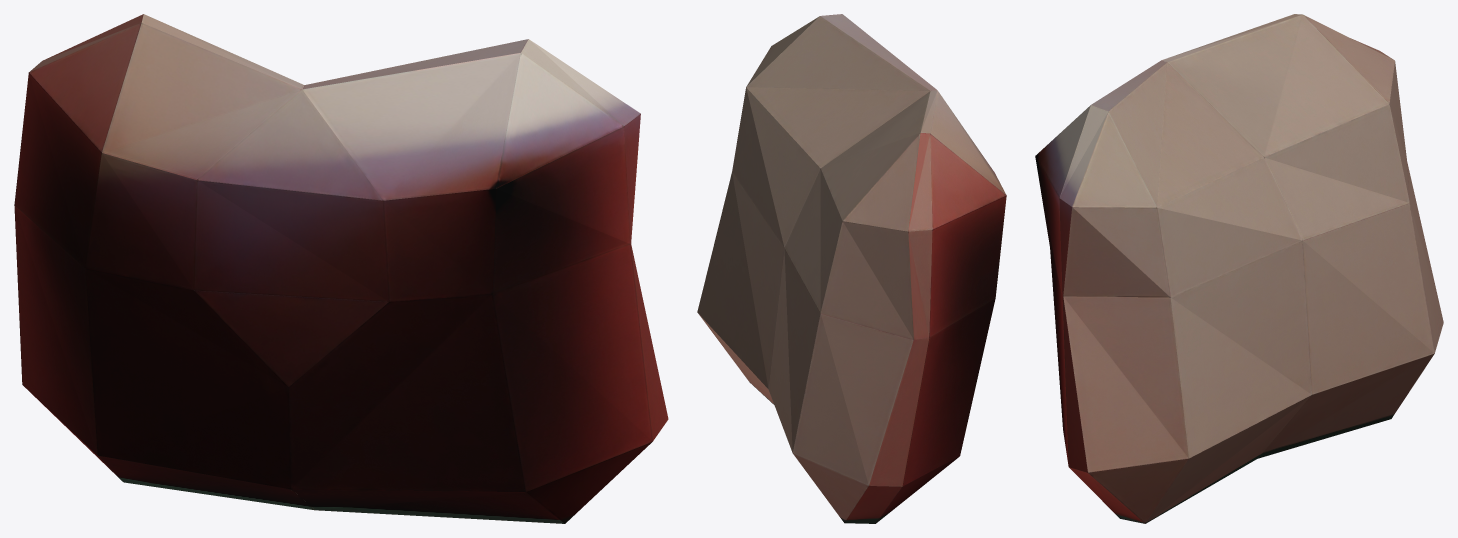
File: couchkissen2_col.gltf
3 views of the same model, side by side, from view 1: azimuth 30°, elevation 25°; view 2: azimuth 150°, elevation 25°; view 3: azimuth 270°, elevation 25° (orthographic). The views are drawn at different scales.
Parts seen in each view (by area): view 1: Couch_Kissen2; view 2: Couch_Kissen2; view 3: Couch_Kissen2.
Boxes of the visible parts, x1,y1,x2,y2 form: Couch_Kissen2: (14, 14, 668, 523); Couch_Kissen2: (697, 14, 1006, 523); Couch_Kissen2: (1035, 14, 1443, 523).
Bounding box in the file's own units: 0.8783 × 0.9093 × 0.8538.
1 material, 1 textured.
